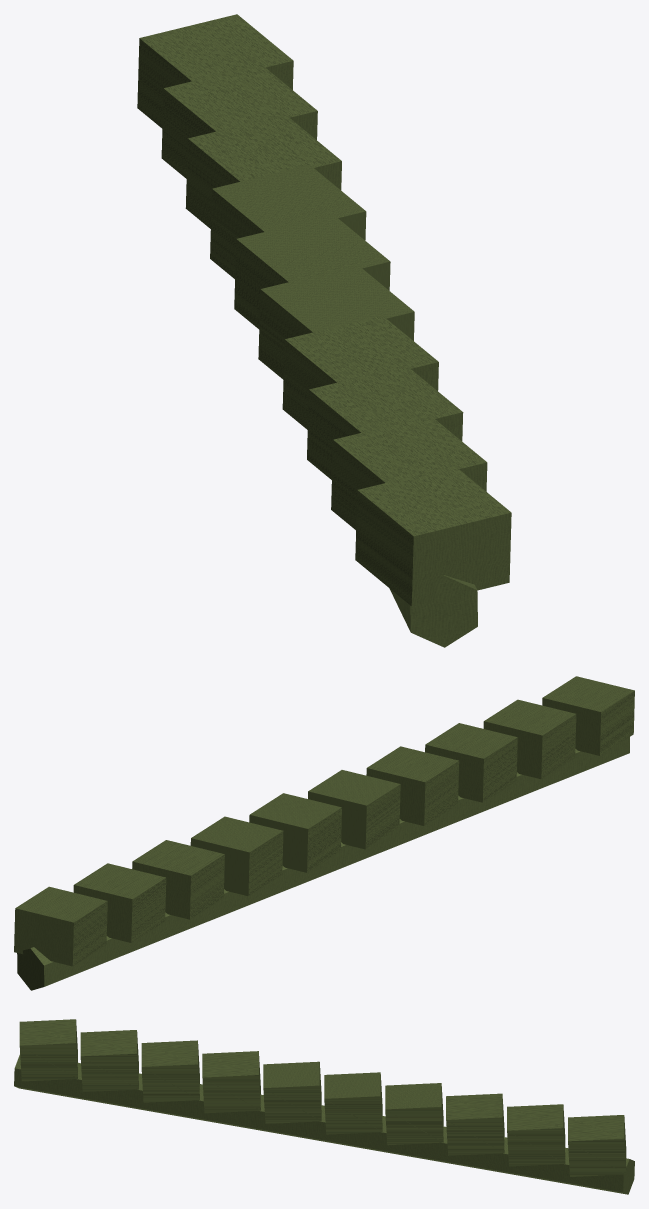
The model's file is bandolier_ammo_foliage.glb.
The picture shows the model from 3 angles, top to bottom: view 1: azimuth 30°, elevation 25°; view 2: azimuth 150°, elevation 25°; view 3: azimuth 270°, elevation 25°; orthographic projection. The views are drawn at different scales.
Visible parts, largest first — view 1: bandolier_ammo_foliage; view 2: bandolier_ammo_foliage; view 3: bandolier_ammo_foliage.
Boxes of the visible parts, x1,y1,x2,y2 form: bandolier_ammo_foliage: [137, 14, 511, 647]; bandolier_ammo_foliage: [14, 676, 634, 990]; bandolier_ammo_foliage: [14, 1019, 634, 1194].
Bounding box in the file's own units: 0.1932 × 0.0677 × 0.4853.
Materials: 1 (1 with a texture image).
